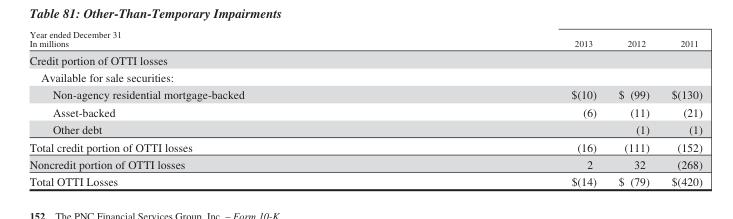table: (28, 29, 701, 187)
table column: (28, 29, 407, 187), (407, 29, 606, 187), (606, 29, 659, 187), (659, 29, 701, 187)
table column header: (28, 29, 701, 50)
table projected row header: (28, 50, 701, 68), (28, 68, 701, 85)
table row: (28, 29, 701, 50), (28, 50, 701, 68), (28, 85, 701, 103), (28, 137, 701, 155), (28, 68, 701, 85), (28, 103, 701, 120), (28, 120, 701, 137), (28, 155, 701, 172), (28, 172, 701, 187)
